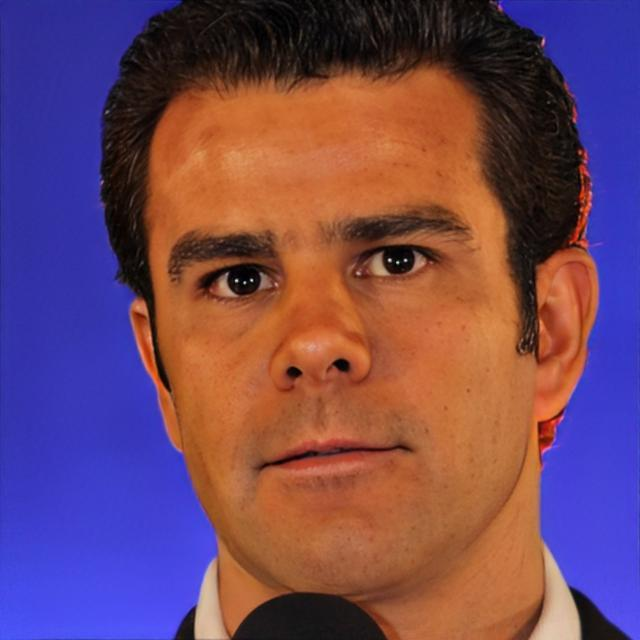neutral: (146, 49, 534, 585)
